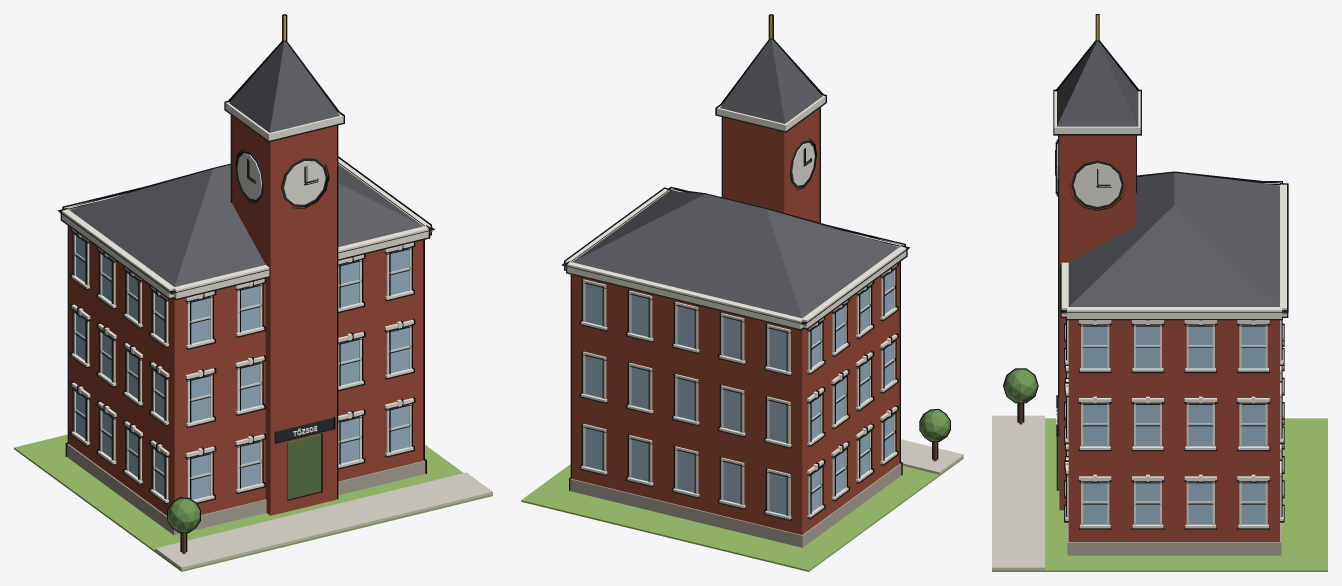
File: Buro_saat_kuleli_1.fbx
3 renders of one model, left to right at view 1: azimuth 30°, elevation 25°; view 2: azimuth 150°, elevation 25°; view 3: azimuth 270°, elevation 25°, orthographic. The views are drawn at different scales.
Parts seen in each view (by area): view 1: Buro_saat_kuleli_1; view 2: Buro_saat_kuleli_1; view 3: Buro_saat_kuleli_1.
Boxes of the visible parts, box(x1,y1,x2,y2) form: Buro_saat_kuleli_1: box(14, 14, 492, 571); Buro_saat_kuleli_1: box(521, 14, 963, 571); Buro_saat_kuleli_1: box(992, 14, 1327, 571).
Bounding box in the file's own units: 15 × 22.12 × 14.
